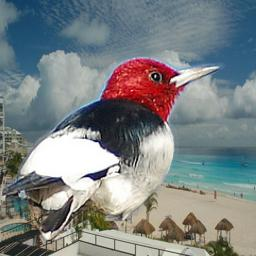Woodpecker: (0, 56, 227, 244)
